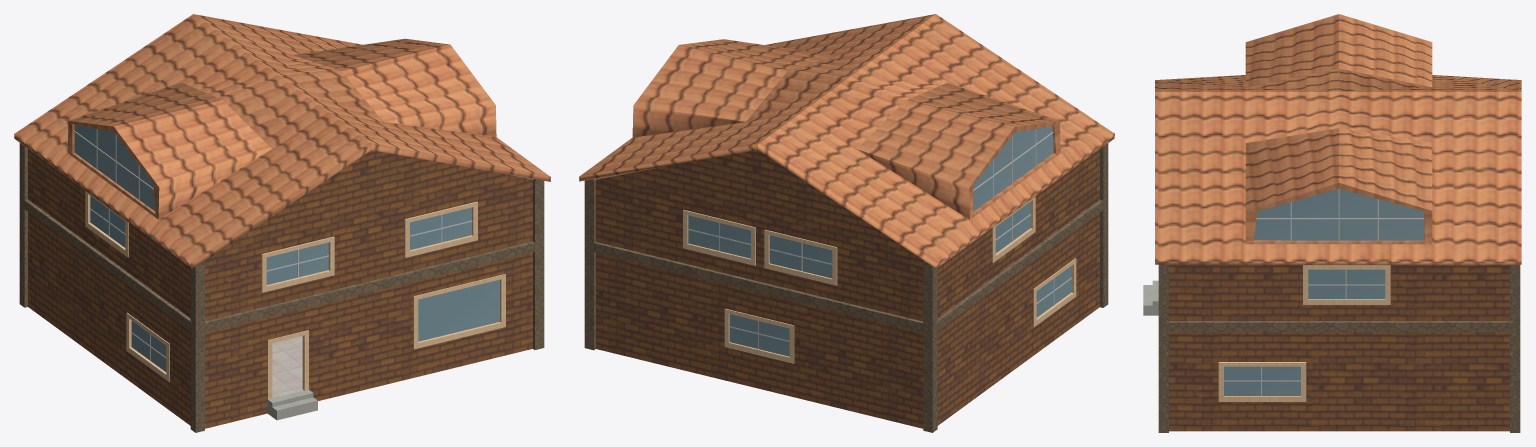
The model's file is House_006_Custom.fbx.
The picture shows the model from 3 angles, left to right: view 1: azimuth 30°, elevation 25°; view 2: azimuth 150°, elevation 25°; view 3: azimuth 270°, elevation 25°; orthographic projection. The views are drawn at different scales.
Visible parts, largest first — view 1: House_006_OutSideWalls_1, House_006_Roof_1, House_006_WindowsGlass, House_006_Frames_1, House_006_F1Floor_1, House_006_FrontStairs_1; view 2: House_006_OutSideWalls_1, House_006_Roof_1, House_006_WindowsGlass, House_006_Frames_1; view 3: House_006_Roof_1, House_006_OutSideWalls_1, House_006_WindowsGlass, House_006_Frames_1, House_006_FrontStairs_1.
Part boxes in pixels (<box>): House_006_OutSideWalls_1: <box>19,143,544,432</box>; House_006_Roof_1: <box>14,14,550,268</box>; House_006_WindowsGlass: <box>74,124,499,371</box>; House_006_Frames_1: <box>74,129,505,399</box>; House_006_F1Floor_1: <box>272,336,303,398</box>; House_006_FrontStairs_1: <box>267,390,317,420</box>; House_006_OutSideWalls_1: <box>584,143,1108,432</box>; House_006_Roof_1: <box>579,14,1114,268</box>; House_006_WindowsGlass: <box>688,126,1071,356</box>; House_006_Frames_1: <box>683,129,1076,363</box>; House_006_Roof_1: <box>1155,14,1521,264</box>; House_006_OutSideWalls_1: <box>1158,264,1520,432</box>; House_006_WindowsGlass: <box>1224,188,1424,395</box>; House_006_Frames_1: <box>1218,188,1424,401</box>; House_006_FrontStairs_1: <box>1143,280,1158,315</box>.
Bounding box in the file's own units: 0.7031 × 0.4632 × 0.6254.
